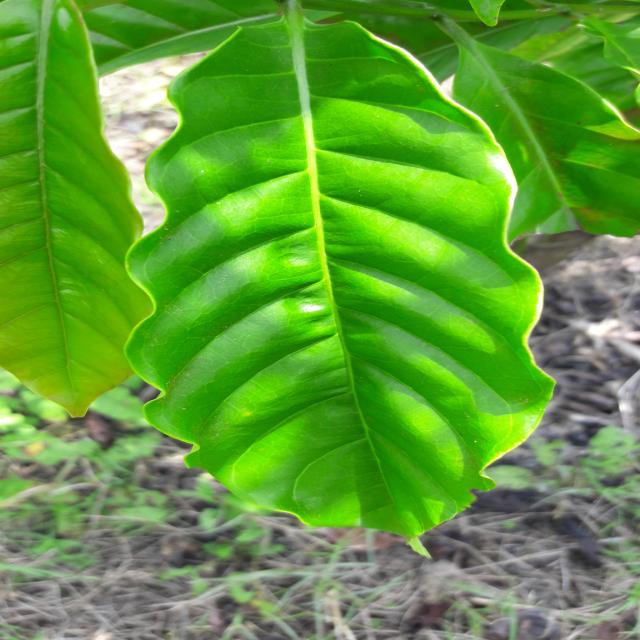Sanas: (96, 0, 556, 553)
